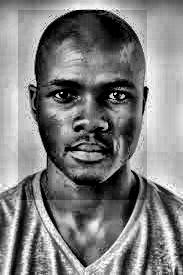sad: (18, 11, 147, 201)
